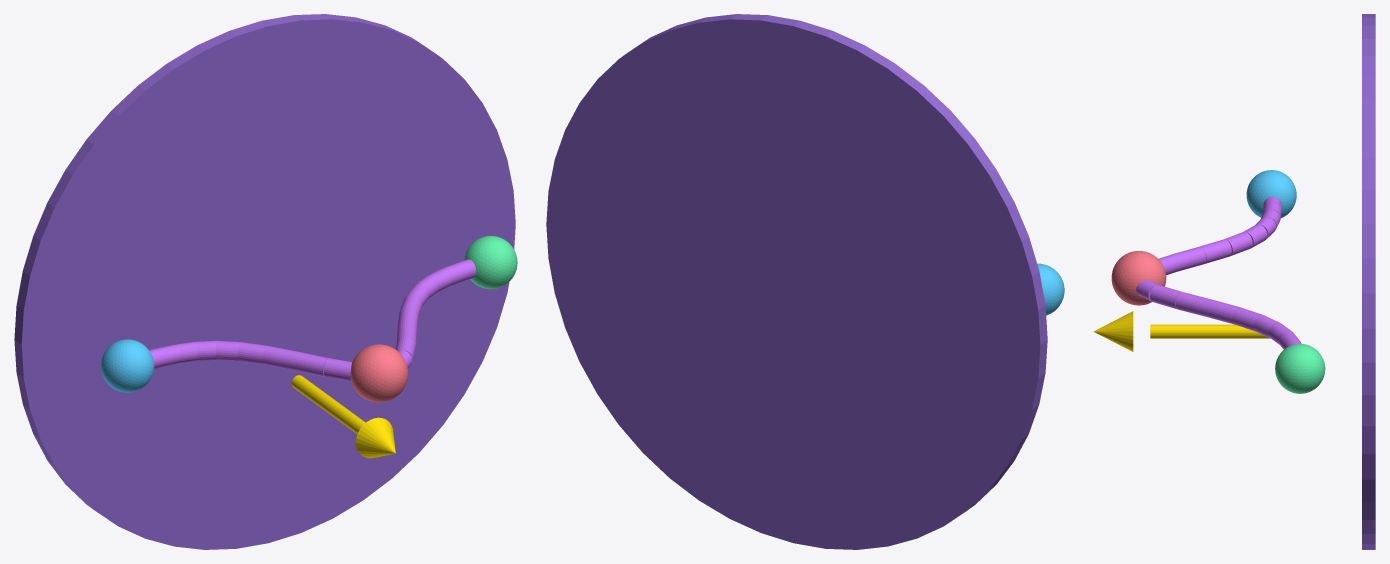
The model's file is modelo.glb.
The picture shows the model from 3 angles, left to right: view 1: azimuth 30°, elevation 25°; view 2: azimuth 150°, elevation 25°; view 3: azimuth 270°, elevation 25°; orthographic projection. The views are drawn at different scales.
Parts seen in each view (by area): view 1: base, pico_estado_transicao, reagentes, produtos, seta_Ea, energia_ativacao, perfil_8, perfil_7; view 2: base, reagentes; view 3: base, produtos, pico_estado_transicao, reagentes, energia_ativacao, seta_Ea, perfil_14, perfil_15, perfil_8, perfil_13, perfil_7, perfil_16 (+1 smaller).
Part boxes in pixels (x1=…): base: x1=14, y1=14, x2=515, y2=549; pico_estado_transicao: x1=350, y1=344, x2=408, y2=402; reagentes: x1=101, y1=339, x2=154, y2=392; produtos: x1=464, y1=236, x2=517, y2=289; seta_Ea: x1=355, y1=417, x2=395, y2=458; energia_ativacao: x1=291, y1=375, x2=365, y2=433; perfil_8: x1=292, y1=351, x2=328, y2=377; perfil_7: x1=263, y1=346, x2=297, y2=370; base: x1=546, y1=14, x2=1047, y2=549; reagentes: x1=1037, y1=263, x2=1064, y2=315; base: x1=1362, y1=14, x2=1375, y2=549; produtos: x1=1275, y1=343, x2=1325, y2=393; pico_estado_transicao: x1=1111, y1=251, x2=1166, y2=305; reagentes: x1=1246, y1=170, x2=1296, y2=218; energia_ativacao: x1=1150, y1=324, x2=1270, y2=338; seta_Ea: x1=1093, y1=311, x2=1133, y2=351; perfil_14: x1=1176, y1=292, x2=1211, y2=316; perfil_15: x1=1205, y1=299, x2=1239, y2=324; perfil_8: x1=1173, y1=246, x2=1206, y2=271; perfil_13: x1=1150, y1=284, x2=1181, y2=309; perfil_7: x1=1200, y1=239, x2=1231, y2=263; perfil_16: x1=1232, y1=307, x2=1262, y2=331.
Bounding box in the file's own units: 0.47 × 0.47 × 0.2474.
